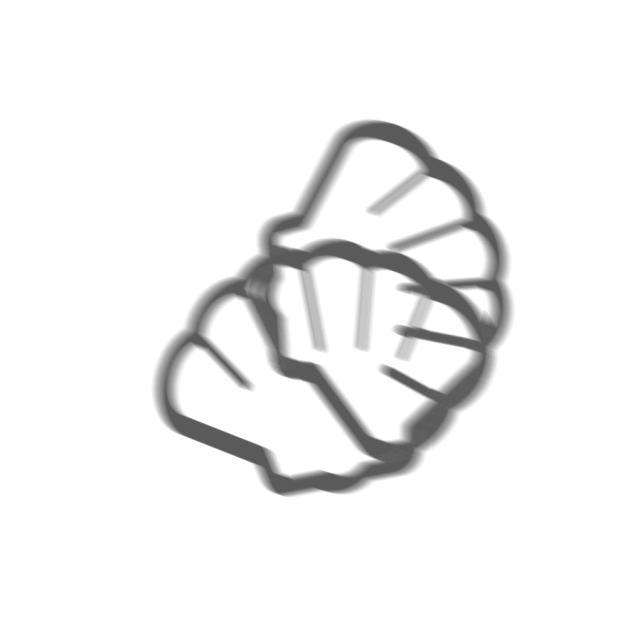shell: (141, 234, 508, 512), (253, 112, 522, 473)
